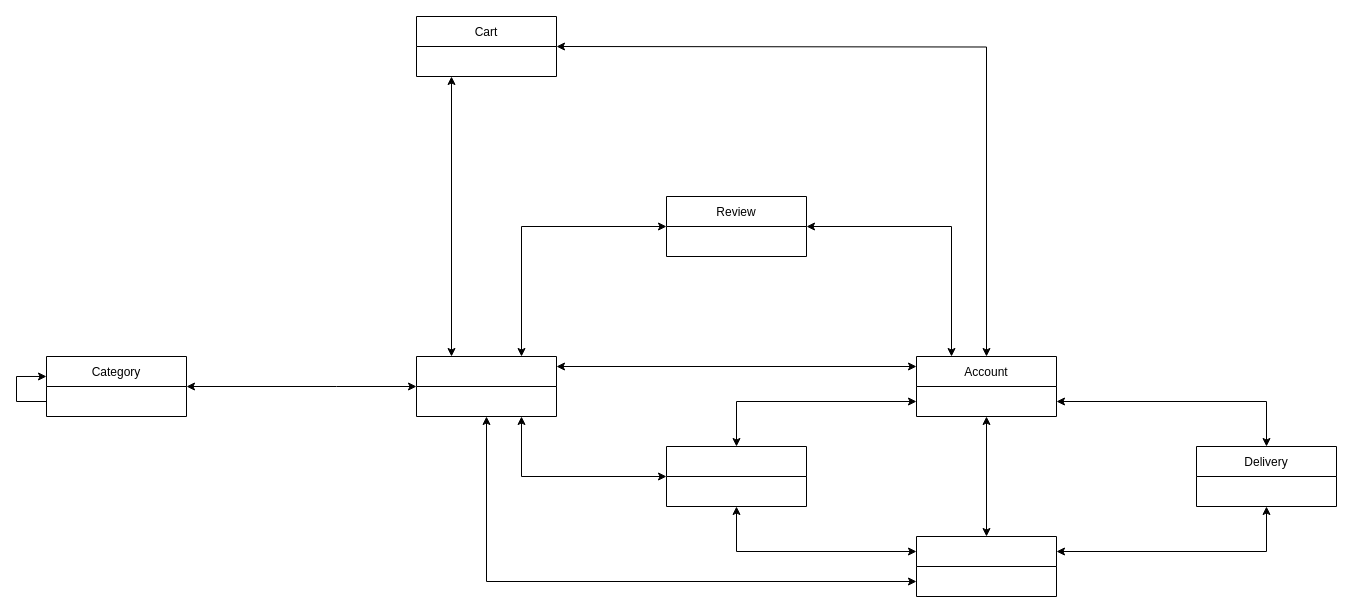
Image size: 1353x613. Some labels were removed from this diagram. The shapes that lost their labels are listed below. From the top down, each one's centre as x and y in pixels, then its label:
At (x=486, y=386): "Product".
At (x=736, y=476): "Return".
At (x=986, y=566): "Purchase".
